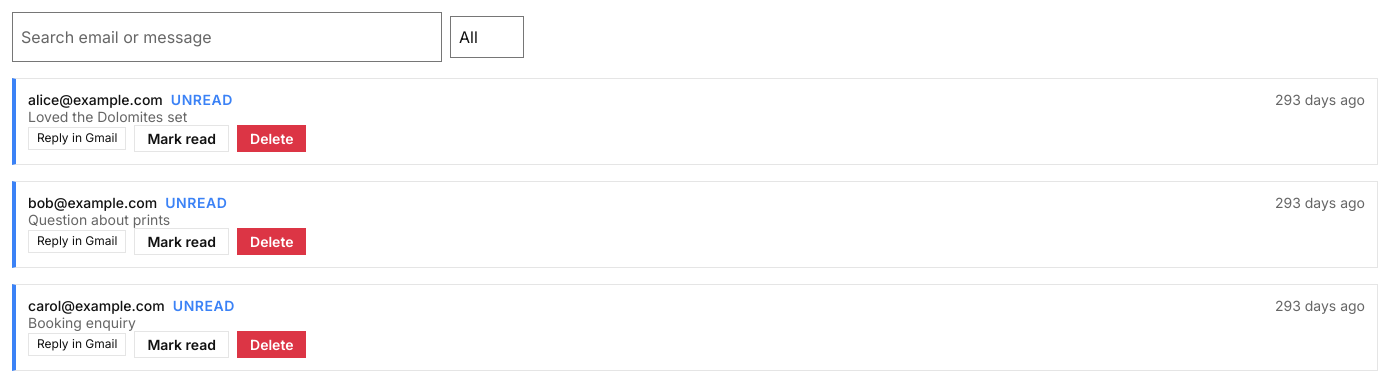
Test case: CommentsList — server-side search › reports the filtered total, which now counts the whole table
The image size is (1378, 388).
Type "prints" into the search field named "search messages" at (227, 37), box [12,12,442,62]
Wait 300 ms
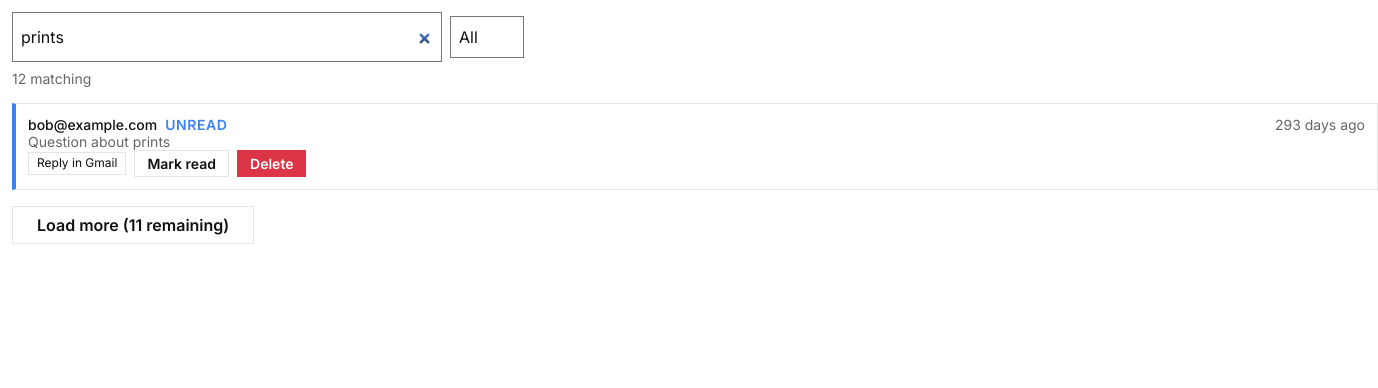
Result: the message reads "12 matching" at [12,70,91,87]
